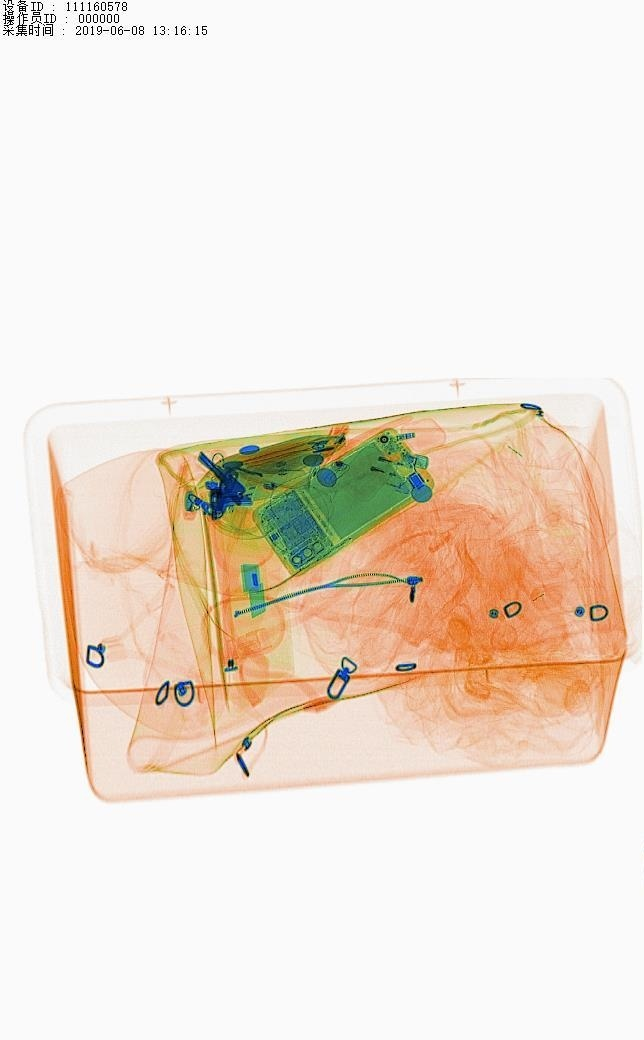NonmetallicFire: (328, 435, 454, 504)
